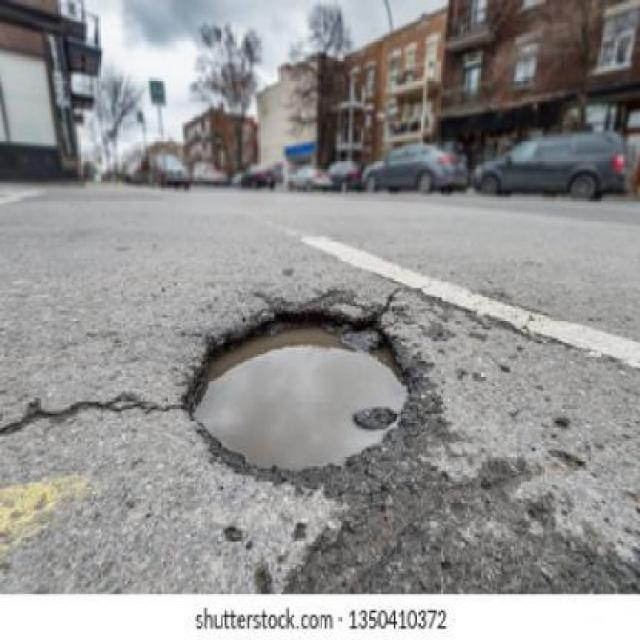Buraco: (177, 303, 426, 479)
